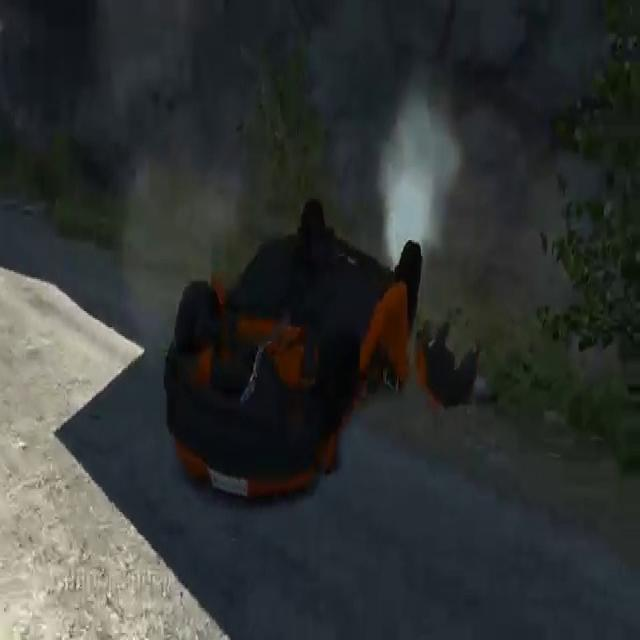accident: (156, 181, 426, 513)
